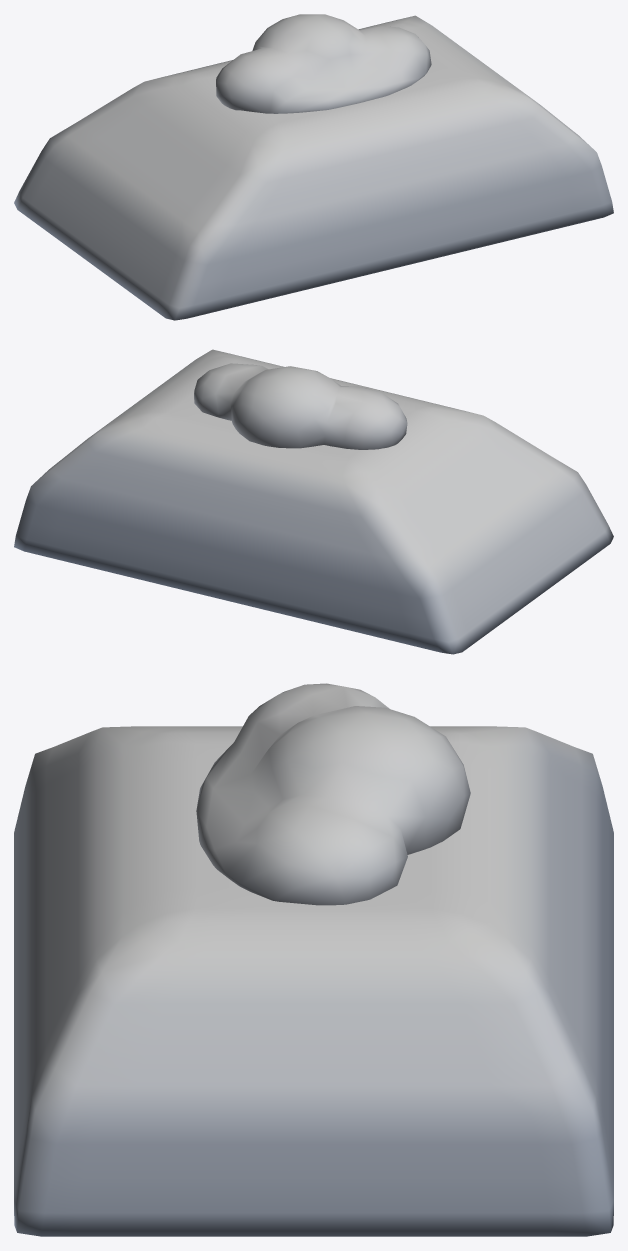
The model's file is Bar_Cloudstone.glb.
3 renders of one model, top to bottom at view 1: azimuth 30°, elevation 25°; view 2: azimuth 150°, elevation 25°; view 3: azimuth 270°, elevation 25°, orthographic. The views are drawn at different scales.
Parts seen in each view (by area): view 1: Bar_cloudstone; view 2: Bar_cloudstone; view 3: Bar_cloudstone.
Part boxes in pixels (x1,y1,x2,y2): Bar_cloudstone: (14, 14, 613, 320); Bar_cloudstone: (14, 349, 613, 654); Bar_cloudstone: (14, 683, 613, 1236).
Size of the model in its own units: 0.93 by 0.3574 by 0.5902.
